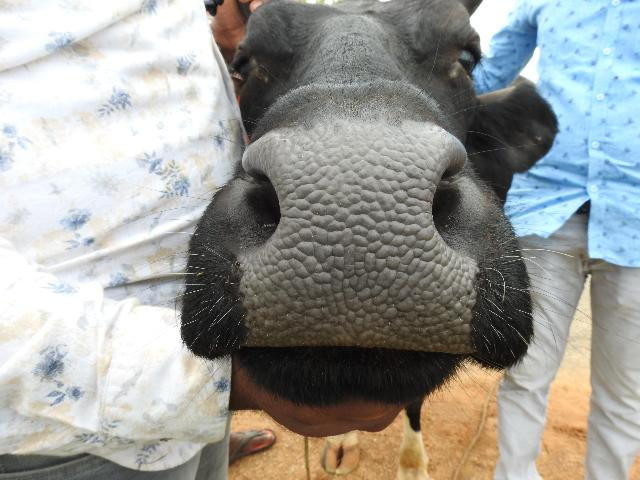Muzzle: (267, 141, 433, 337)
